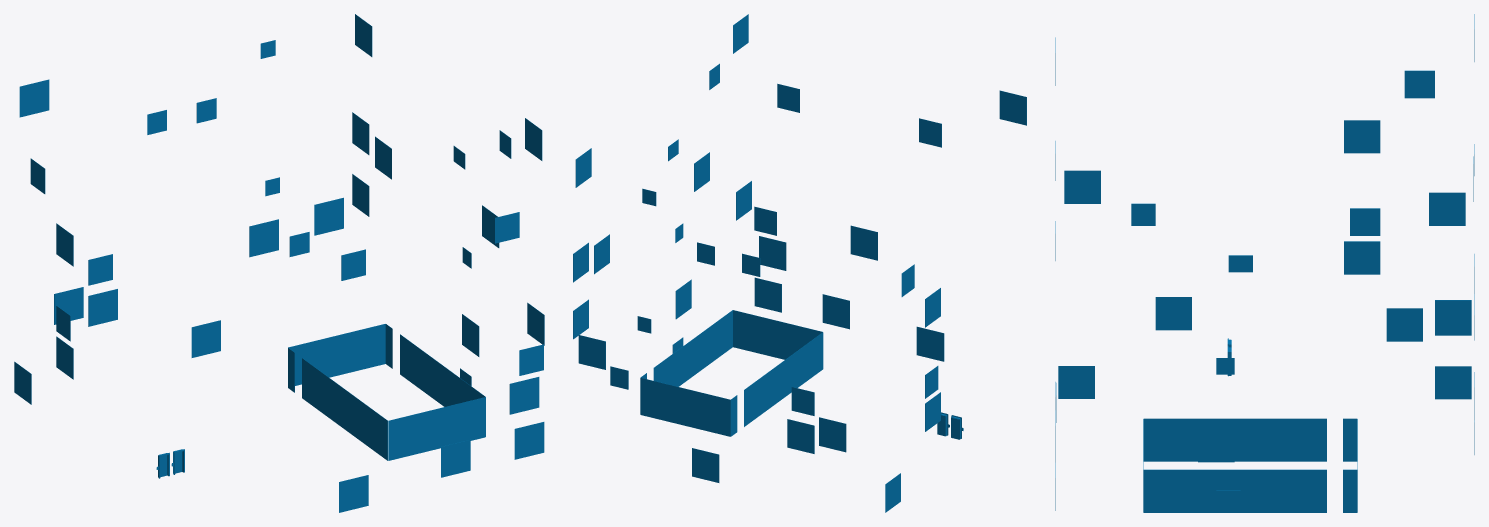
The model's file is Zoll_Atruimholes_zonesupdaes_Level_1_IfcPlate.dae.
3 renders of one model, left to right at view 1: azimuth 30°, elevation 25°; view 2: azimuth 150°, elevation 25°; view 3: azimuth 270°, elevation 25°, orthographic. The views are drawn at different scales.
Parts seen in each view (by area): view 1: 2eQAkgtmr7OOnUGGEDt$Ng, 2eQAkgtmr7OOnUGGEDt$Nc, 2eQAkgtmr7OOnUGGEDt_eP, 2eQAkgtmr7OOnUGGEDt$Ne, 2eQAkgtmr7OOnUGGEDt$NY, 2eQAkgtmr7OOnUGGEDt_eL, 2eQAkgtmr7OOnUGGEDt_eN, 2eQAkgtmr7OOnUGGEDt$Na; view 2: 2eQAkgtmr7OOnUGGEDt_eT, 2eQAkgtmr7OOnUGGEDt_eP, 2eQAkgtmr7OOnUGGEDt$Ne, 2eQAkgtmr7OOnUGGEDt_eN, 2eQAkgtmr7OOnUGGEDt$Ng, 2eQAkgtmr7OOnUGGEDt_eR, 2eQAkgtmr7OOnUGGEDt$Nc, 2eQAkgtmr7OOnUGGEDt_eL; view 3: 2eQAkgtmr7OOnUGGEDt$Nu, 2eQAkgtmr7OOnUGGEDt_e2, 2eQAkgtmr7OOnUGGEDt$N9, 2eQAkgtmr7OOnUGGEDt$NB, 2eQAkgtmr7OOnUGGEDt$ND, 2eQAkgtmr7OOnUGGEDt$NL, 2eQAkgtmr7OOnUGGEDt$NN, 2eQAkgtmr7OOnUGGEDt$Nw, 2eQAkgtmr7OOnUGGEDt$Ny, 2eQAkgtmr7OOnUGGEDt_e4, 2eQAkgtmr7OOnUGGEDt_e6, 2eQAkgtmr7OOnUGGEDt_e0 (+26 smaller).
Boxes of the visible parts, box(x1,y1,x2,y2) form: 2eQAkgtmr7OOnUGGEDt$Ng: box(467, 400, 485, 440); 2eQAkgtmr7OOnUGGEDt$Nc: box(431, 408, 449, 450); 2eQAkgtmr7OOnUGGEDt_eP: box(324, 337, 342, 377); 2eQAkgtmr7OOnUGGEDt$Ne: box(449, 404, 467, 444); 2eQAkgtmr7OOnUGGEDt$NY: box(396, 417, 413, 458); 2eQAkgtmr7OOnUGGEDt_eL: box(360, 328, 377, 369); 2eQAkgtmr7OOnUGGEDt_eN: box(342, 332, 359, 374); 2eQAkgtmr7OOnUGGEDt$Na: box(414, 413, 431, 454); 2eQAkgtmr7OOnUGGEDt_eT: box(713, 398, 730, 436); 2eQAkgtmr7OOnUGGEDt_eP: box(680, 390, 697, 428); 2eQAkgtmr7OOnUGGEDt$Ne: box(749, 316, 766, 354); 2eQAkgtmr7OOnUGGEDt_eN: box(664, 386, 680, 424); 2eQAkgtmr7OOnUGGEDt$Ng: box(733, 312, 749, 350); 2eQAkgtmr7OOnUGGEDt_eR: box(697, 394, 713, 432); 2eQAkgtmr7OOnUGGEDt$Nc: box(766, 320, 782, 359); 2eQAkgtmr7OOnUGGEDt_eL: box(647, 382, 663, 420); 2eQAkgtmr7OOnUGGEDt$Nu: box(1149, 472, 1171, 512); 2eQAkgtmr7OOnUGGEDt_e2: box(1260, 472, 1282, 512); 2eQAkgtmr7OOnUGGEDt$N9: box(1299, 421, 1321, 461); 2eQAkgtmr7OOnUGGEDt$NB: box(1277, 421, 1299, 461); 2eQAkgtmr7OOnUGGEDt$ND: box(1254, 421, 1276, 461); 2eQAkgtmr7OOnUGGEDt$NL: box(1165, 421, 1187, 461); 2eQAkgtmr7OOnUGGEDt$NN: box(1143, 421, 1165, 461); 2eQAkgtmr7OOnUGGEDt$Nw: box(1171, 472, 1193, 512); 2eQAkgtmr7OOnUGGEDt$Ny: box(1193, 472, 1215, 512); 2eQAkgtmr7OOnUGGEDt_e4: box(1282, 472, 1304, 512); 2eQAkgtmr7OOnUGGEDt_e6: box(1305, 472, 1326, 512); 2eQAkgtmr7OOnUGGEDt_e0: box(1238, 472, 1260, 512).
Bounding box in the file's own units: 34.49 × 34.49 × 32.04.
